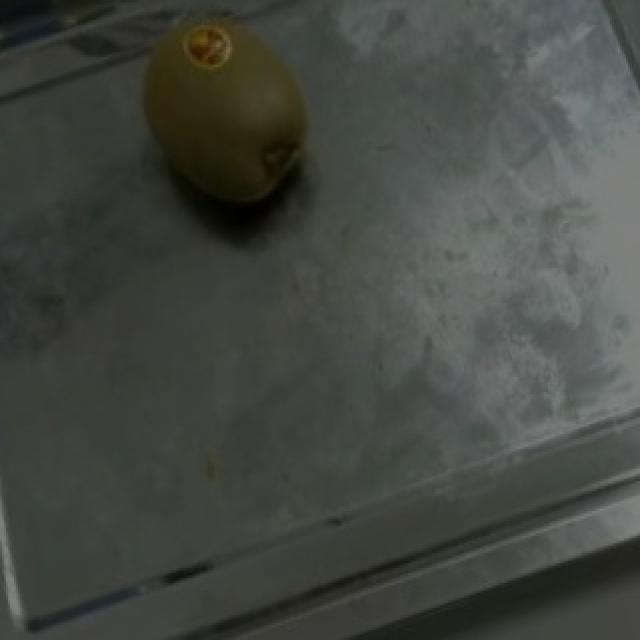Fruit: (104, 0, 348, 256)
